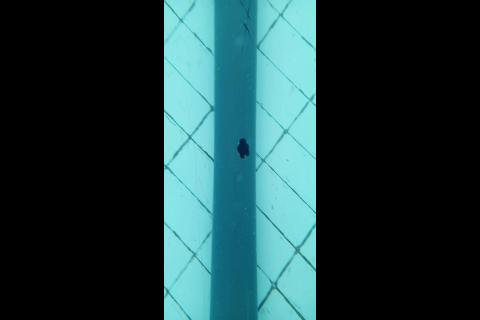kebocoran: (237, 137, 250, 160)
keretakan: (240, 0, 253, 50)
